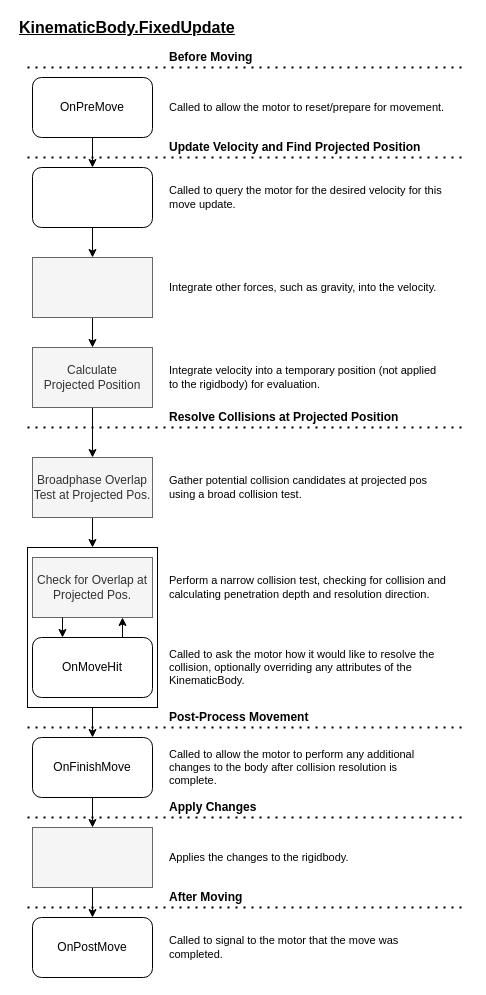
The diagram is 486 pixels wide and 995 high, and some of its shapes have lost their labels. The shapes that lost their labels are listed below. From the top down, each one's centre as x and y in pixels, then its label:
At point (92, 197): "UpdateVelocity".
At point (92, 287): "Integrate Internal Forces".
At point (92, 857): "Move to Projected Pos.".
